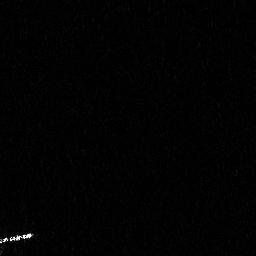ship: (1, 229, 37, 249)
